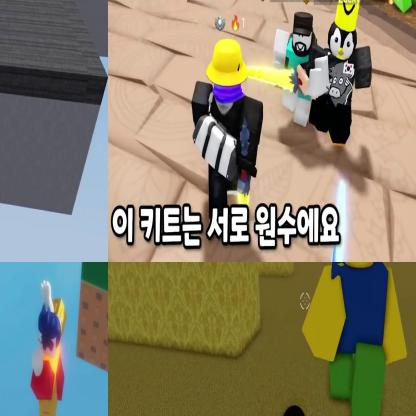Roblox-Avatar: (303, 263, 409, 416), (192, 40, 265, 225), (309, 1, 374, 147), (275, 12, 330, 128), (31, 280, 69, 416)
